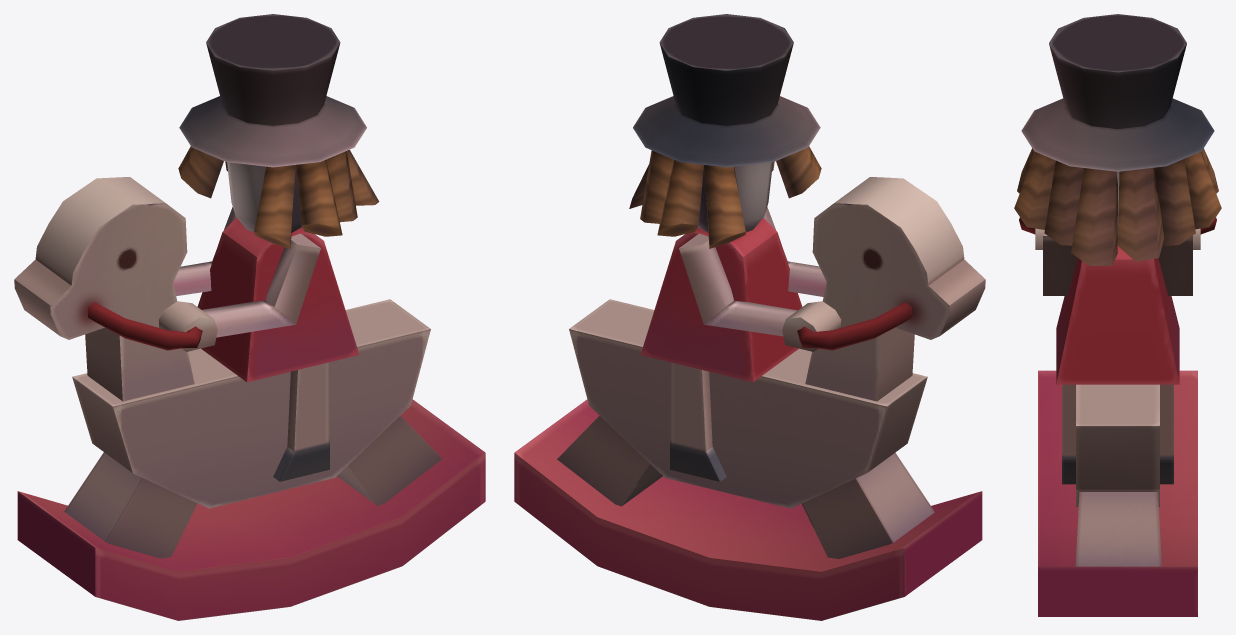
Rendered from scenes_around_toy01c.FBX.
3 renders of one model, left to right at view 1: azimuth 30°, elevation 25°; view 2: azimuth 150°, elevation 25°; view 3: azimuth 270°, elevation 25°, orthographic. The views are drawn at different scales.
Visible parts, largest first — view 1: scenes_around_toy01c; view 2: scenes_around_toy01c; view 3: scenes_around_toy01c.
Part boxes in pixels (bbox=[...]): scenes_around_toy01c: bbox=[14, 14, 485, 620]; scenes_around_toy01c: bbox=[514, 14, 985, 620]; scenes_around_toy01c: bbox=[1014, 14, 1221, 616].
Size of the model in its own units: 6411 by 7847 by 2706.
